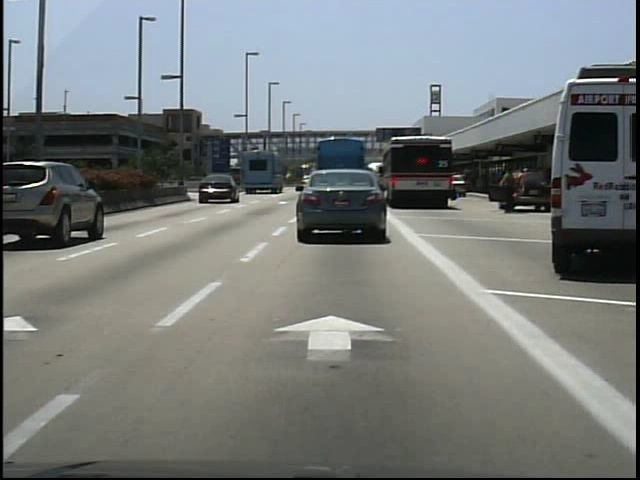person: (498, 165, 520, 217)
